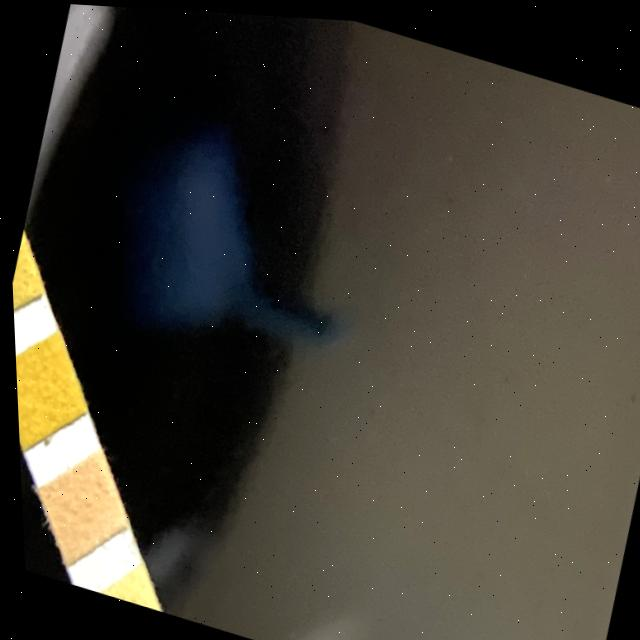Blood: (12, 350, 72, 426)
Protein: (100, 582, 154, 609)
SpGravity: (8, 239, 30, 310)
pH: (47, 469, 113, 543)
